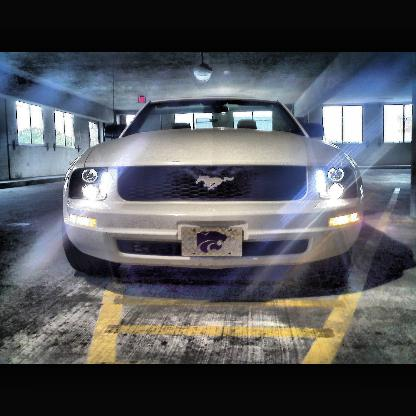Ford Mustang Convertible 2007: (59, 94, 370, 288)
